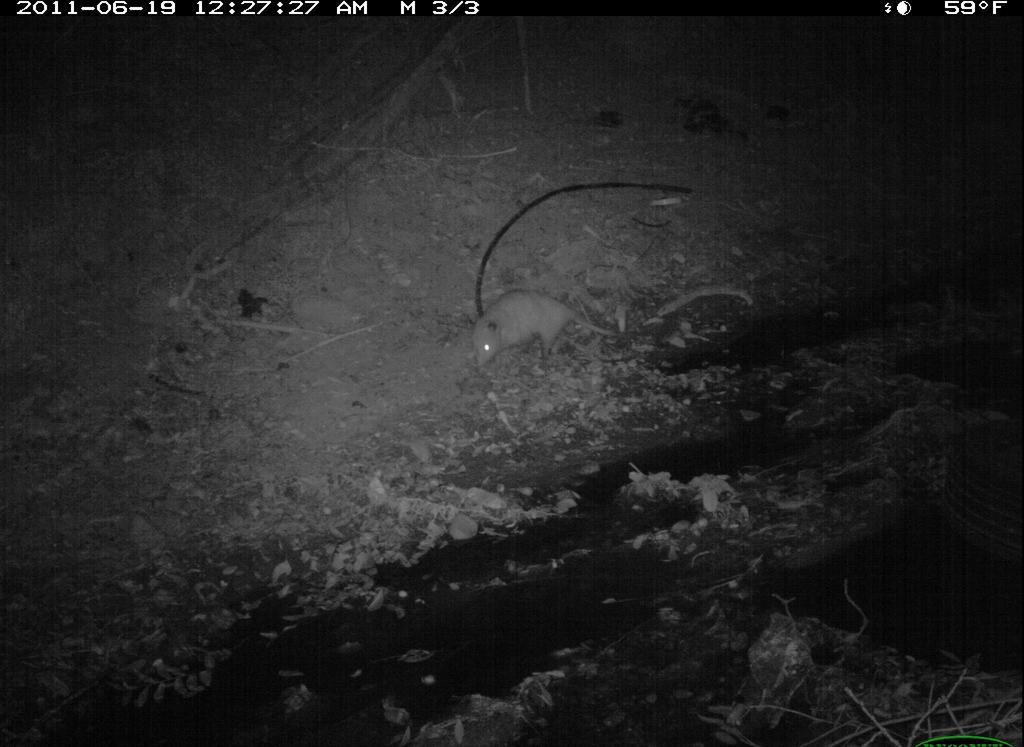opossum: (463, 281, 639, 377)
